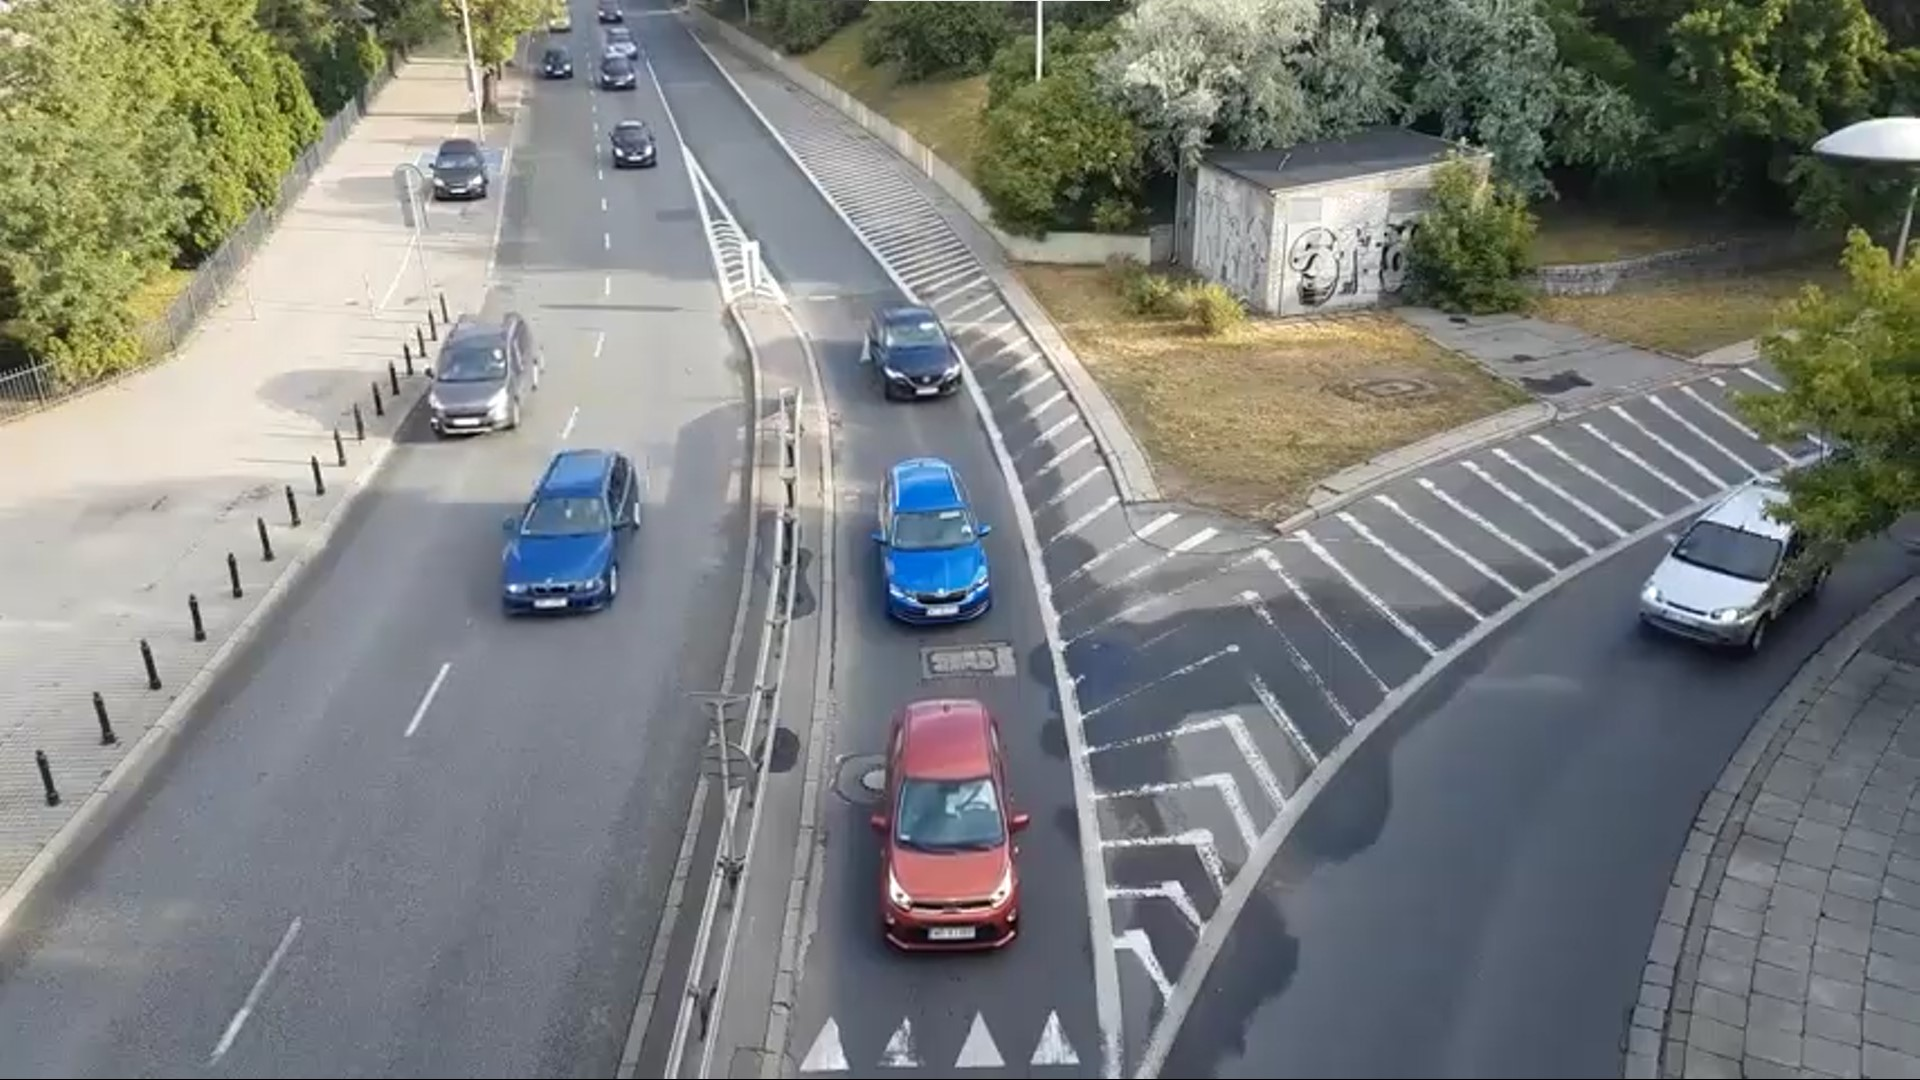mobil: (866, 691, 1030, 959), (1629, 472, 1834, 669), (502, 444, 642, 622), (868, 456, 996, 632), (429, 306, 541, 450), (860, 299, 975, 413), (430, 138, 491, 208), (607, 117, 657, 171)
